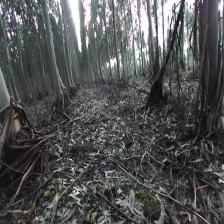trunk: (194, 0, 224, 126), (42, 10, 64, 98), (113, 15, 121, 80)
